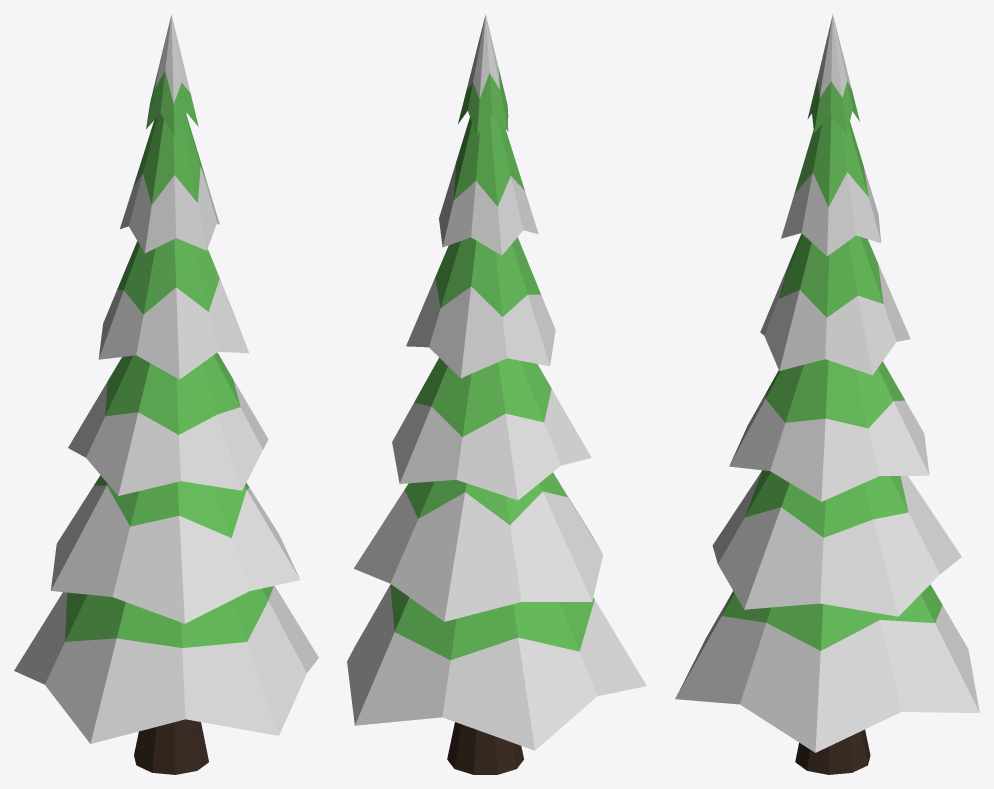
File: Tree Pine Snow.fbx
3 renders of one model, left to right at view 1: azimuth 30°, elevation 25°; view 2: azimuth 150°, elevation 25°; view 3: azimuth 270°, elevation 25°, orthographic.
Parts seen in each view (by area): view 1: Snow Pine Tree; view 2: Snow Pine Tree; view 3: Snow Pine Tree.
Part boxes in pixels (left/top/right/bottom): Snow Pine Tree: left=14, top=14, right=318, bottom=774; Snow Pine Tree: left=347, top=14, right=646, bottom=774; Snow Pine Tree: left=675, top=14, right=979, bottom=774.
Size of the model in its own units: 1.33 by 3.65 by 1.35.
